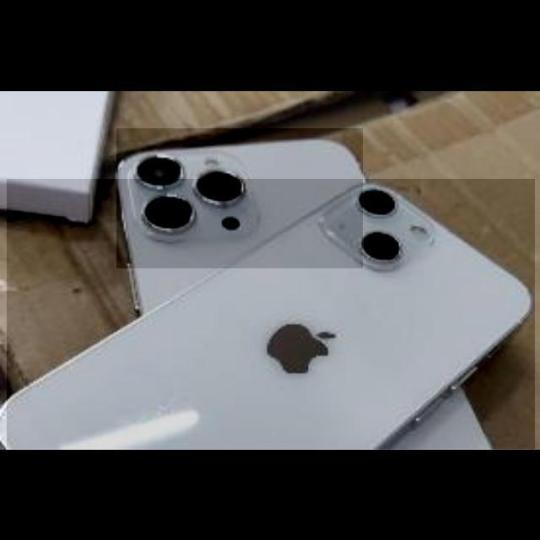phone: (128, 134, 534, 453)
